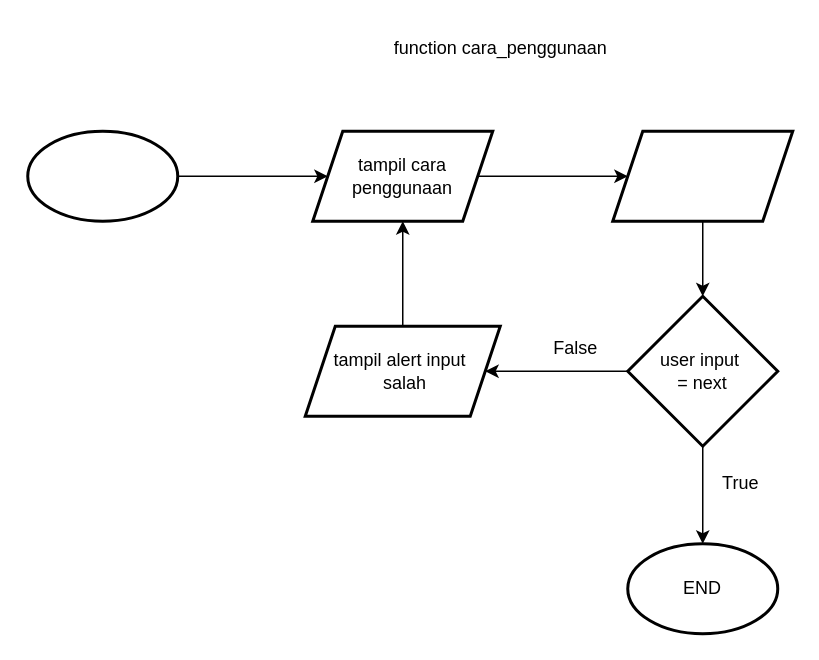
Image size: 819x660. Some labels were removed from this diagram. The centre of each missing label's shape, as x and y in pixels:
"START" belongs at (102,175).
"user input data" belongs at (702,175).
